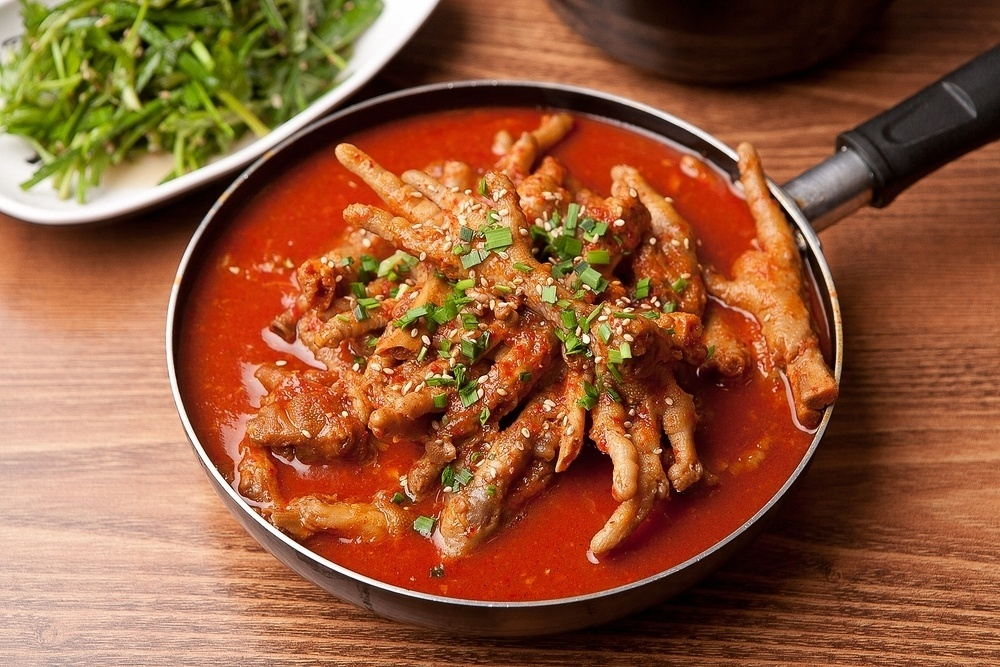seblak: (230, 114, 837, 562)
